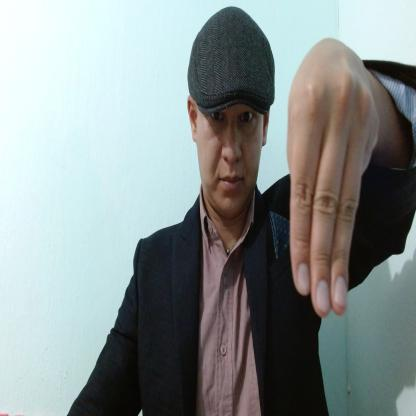M: (287, 37, 381, 317)
